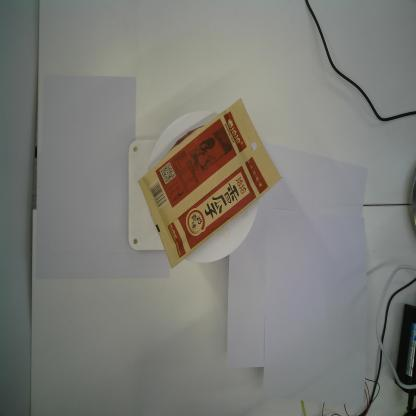Dried Food: (136, 96, 285, 271)
